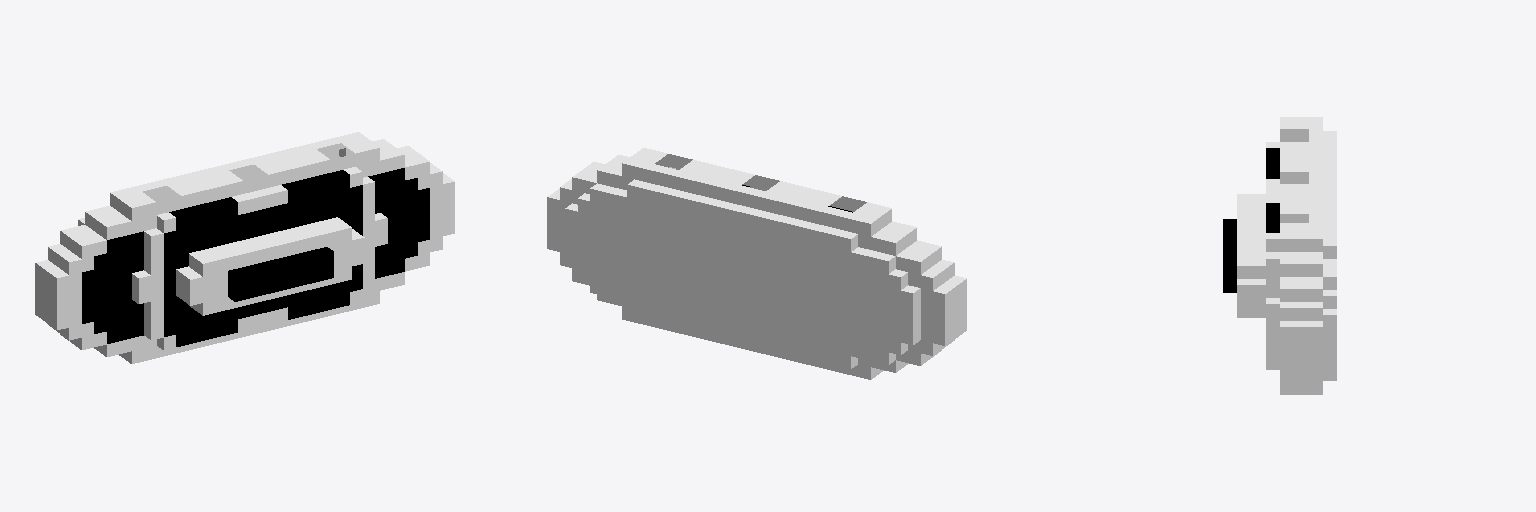
3 renders of one model, left to right at view 1: azimuth 30°, elevation 25°; view 2: azimuth 150°, elevation 25°; view 3: azimuth 270°, elevation 25°, orthographic.
Parts seen in each view (by area): view 1: galley; view 2: galley; view 3: galley.
Boxes of the visible parts, x1,y1,x2,y2 form: galley: [35, 132, 454, 363]; galley: [547, 148, 966, 379]; galley: [1223, 117, 1336, 394].
Size of the model in its own units: 32 by 18 by 8.
Materials: 1 (1 with a texture image).